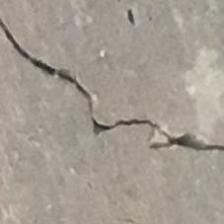Crack: (0, 8, 224, 182)
